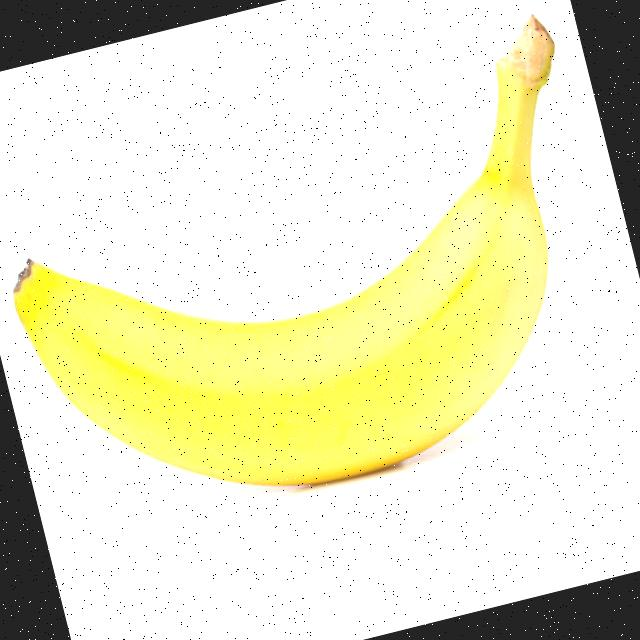Ripe: (0, 38, 636, 551)
